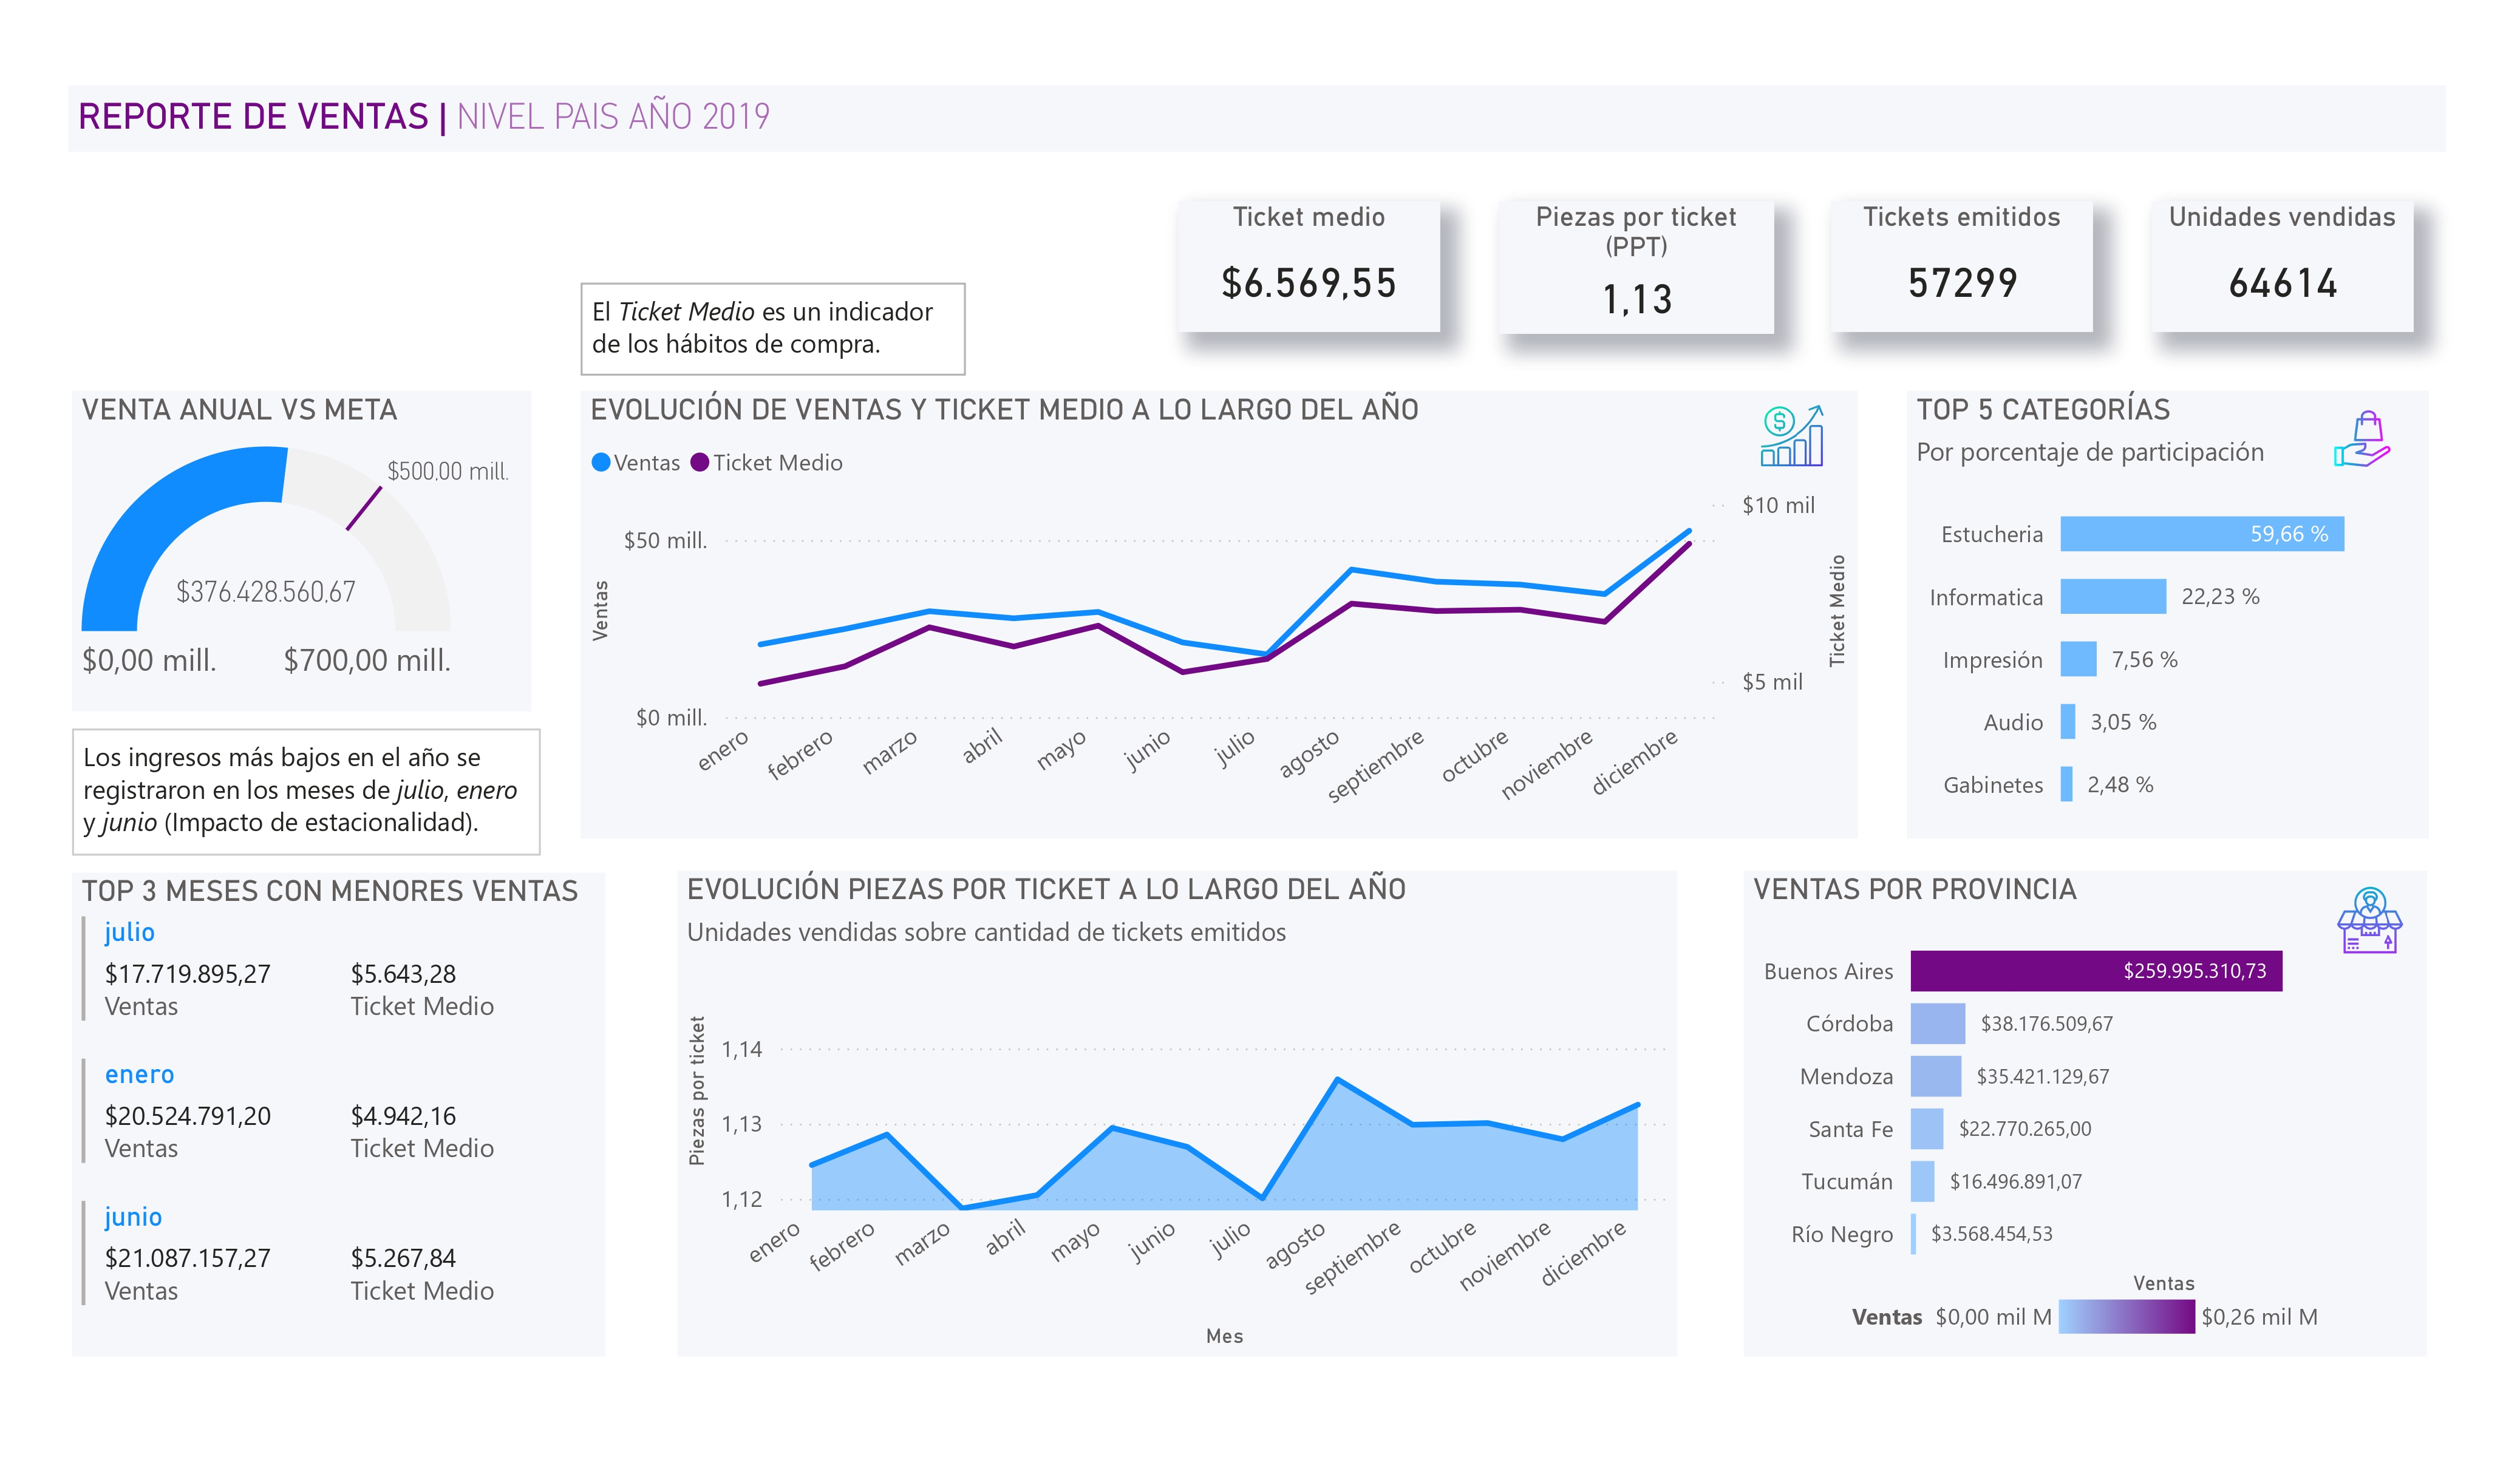

The dashboard page shown, as its layout file describes it:
{"tool":"powerbi","page":{"name":"Status nivel país","canvas":[1280,720],"ordinal":0},"visuals":[{"type":"shape","box":[11.7,11.7,1253.3,55.5],"z":0},{"type":"barChart","title":"TOP 5 CATEGORÍAS","fields":{"Category":["VENTAS.Categoría"],"Y":["MEDIDAS.% categorias sobre Total Ventas"]},"box":[980.9,181.8,275.5,236.4],"z":1000},{"type":"gauge","title":"VENTA ANUAL VS META","fields":{"Y":["MEDIDAS.Venta Total Anual"]},"box":[14,182,242,169],"z":2000},{"type":"clusteredBarChart","title":"VENTAS POR PROVINCIA","fields":{"Category":["SUCURSALES.Provincia"],"Y":["MEDIDAS.Ventas"]},"box":[895.5,435.5,360,255.5],"z":3000},{"type":"lineChart","title":"EVOLUCIÓN DE VENTAS Y TICKET MEDIO A LO LARGO DEL AÑO","fields":{"Category":["FECHAS.Date.Variación.Jerarquía de fechas.Mes"],"Y":["MEDIDAS.Ventas"],"Y2":["MEDIDAS.Ticket Medio"]},"box":[282,182,673,236],"z":4000},{"type":"card","title":"Piezas por ticket (PPT)","fields":{"Values":["MEDIDAS.Piezas por ticket"]},"box":[765.7,82,145,70],"z":5000,"group":"g1"},{"type":"image","box":[899.2,173.3,42.5,65],"z":5000},{"type":"image","box":[1201.8,435.5,46.4,50.9],"z":6000},{"type":"card","title":"Tickets emitidos","fields":{"Values":["MEDIDAS.Tickets"]},"box":[941.3,82,138,69],"z":7000,"group":"g1"},{"type":"image","box":[1196,182,49,48],"z":7000},{"type":"textbox","box":[11.8,20.9,1253.6,35.5],"z":8000},{"type":"textbox","box":[281.8,125.5,202.7,48.2],"z":9000},{"type":"areaChart","title":"EVOLUCIÓN PIEZAS POR TICKET A LO LARGO DEL AÑO","fields":{"Category":["FECHAS.Date.Variación.Jerarquía de fechas.Mes"],"Y":["MEDIDAS.Piezas por ticket"]},"box":[332.7,435.5,527.3,255.5],"z":10000},{"type":"textbox","box":[14.2,360,246.7,66.7],"z":11000},{"type":"card","title":"Ticket medio","fields":{"Values":["MEDIDAS.Ticket Medio"]},"box":[597,82,138,69],"z":12000,"group":"g1"},{"type":"group","id":"g1","title":"Grupo 1","box":[597,82,651,70],"z":12000},{"type":"card","title":"Unidades vendidas","fields":{"Values":["MEDIDAS.Total Unidades"]},"box":[1110,82,138,69],"z":13000,"group":"g1"},{"type":"multiRowCard","title":"TOP 3 MESES CON MENORES VENTAS","fields":{"Values":["FECHAS.Date.Variación.Jerarquía de fechas.Mes","MEDIDAS.Ventas","MEDIDAS.Ticket Medio"]},"box":[14.2,435.8,280.8,255],"z":13000}]}

Visuals, with their boxes on the page's 1280x720 design canvas (x1, y1, x2, y2). These are canvas units, not pixel positions in the 2520x1457 screenshot, which may show the page scaled, cropped or inside an application window:
shape: bbox=(12, 12, 1265, 67)
"TOP 5 CATEGORÍAS" barChart: bbox=(981, 182, 1256, 418)
"VENTA ANUAL VS META" gauge: bbox=(14, 182, 256, 351)
"VENTAS POR PROVINCIA" clusteredBarChart: bbox=(896, 436, 1256, 691)
"EVOLUCIÓN DE VENTAS Y TICKET MEDIO A LO LARGO DEL AÑO" lineChart: bbox=(282, 182, 955, 418)
"Piezas por ticket (PPT)" card: bbox=(766, 82, 911, 152)
image: bbox=(899, 173, 942, 238)
image: bbox=(1202, 436, 1248, 486)
"Tickets emitidos" card: bbox=(941, 82, 1079, 151)
image: bbox=(1196, 182, 1245, 230)
textbox: bbox=(12, 21, 1265, 56)
textbox: bbox=(282, 126, 484, 174)
"EVOLUCIÓN PIEZAS POR TICKET A LO LARGO DEL AÑO" areaChart: bbox=(333, 436, 860, 691)
textbox: bbox=(14, 360, 261, 427)
"Ticket medio" card: bbox=(597, 82, 735, 151)
"Grupo 1" group: bbox=(597, 82, 1248, 152)
"Unidades vendidas" card: bbox=(1110, 82, 1248, 151)
"TOP 3 MESES CON MENORES VENTAS" multiRowCard: bbox=(14, 436, 295, 691)
